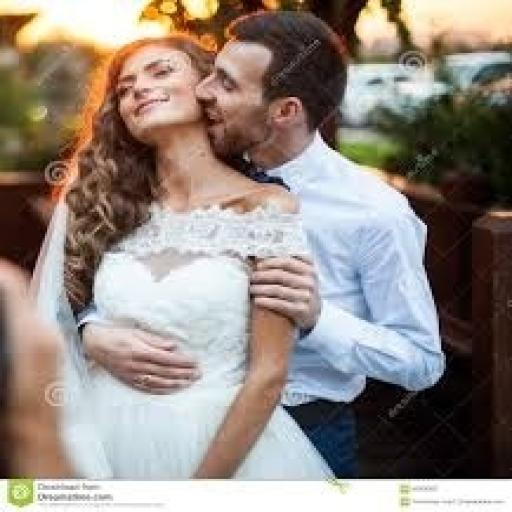hugging: (26, 9, 446, 479)
